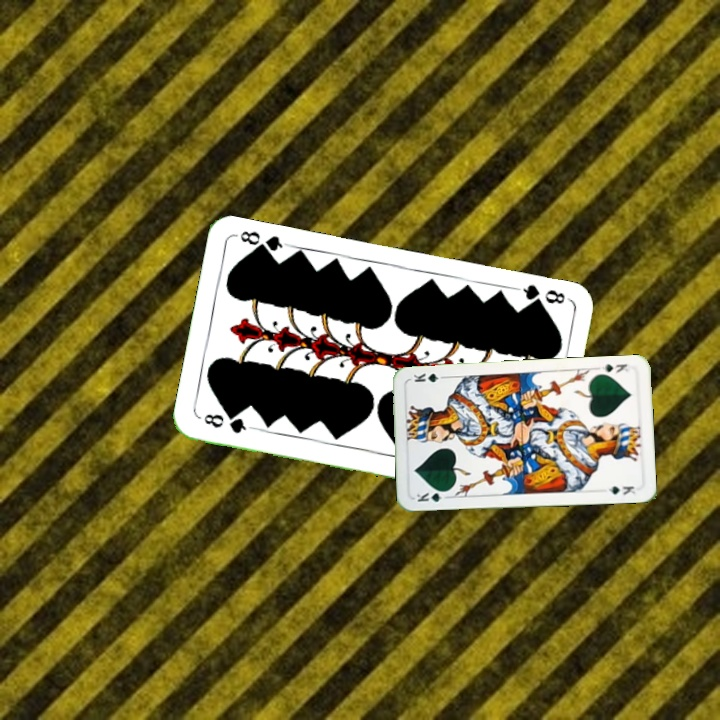G8: (518, 280, 576, 311), (199, 409, 256, 436)
GK: (412, 487, 452, 504), (594, 360, 630, 376)
